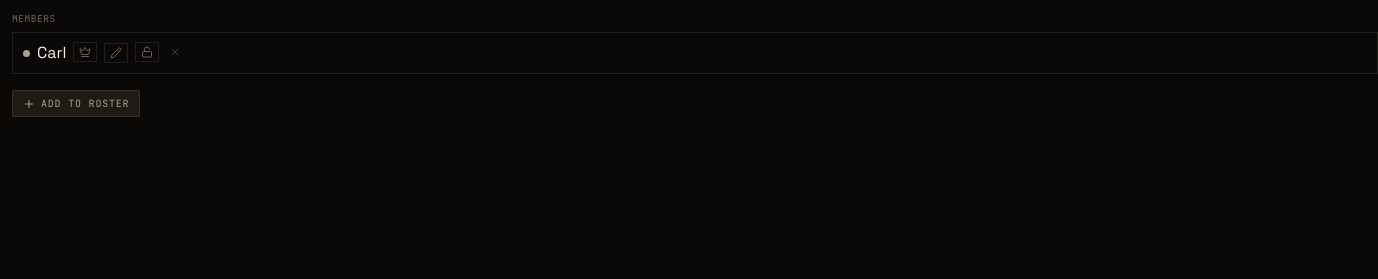
Test: RosterEditor › keeps the edit form open and shows the error when the update fails
This screenshot has width=1378, height=279.
Click the button named "Edit membership" at [116, 53], box [104,43,128,63]
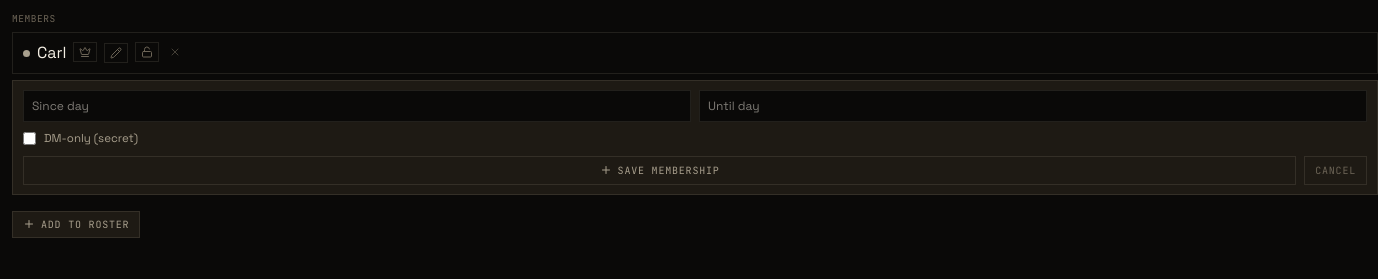
Submit the form named "Since day", box [12,80,1377,195]
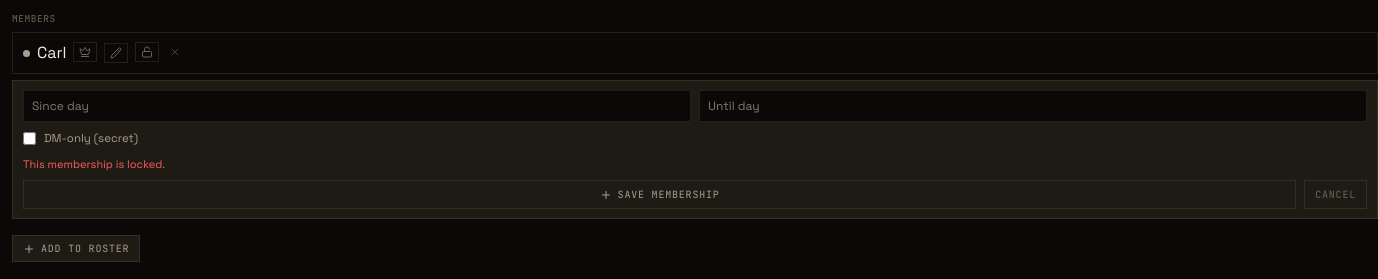
expect the number field labelled "Since day" is shown: met, box [23,90,691,122]
expect the text "This membership is locked." is shown: met, box [23,156,165,170]
